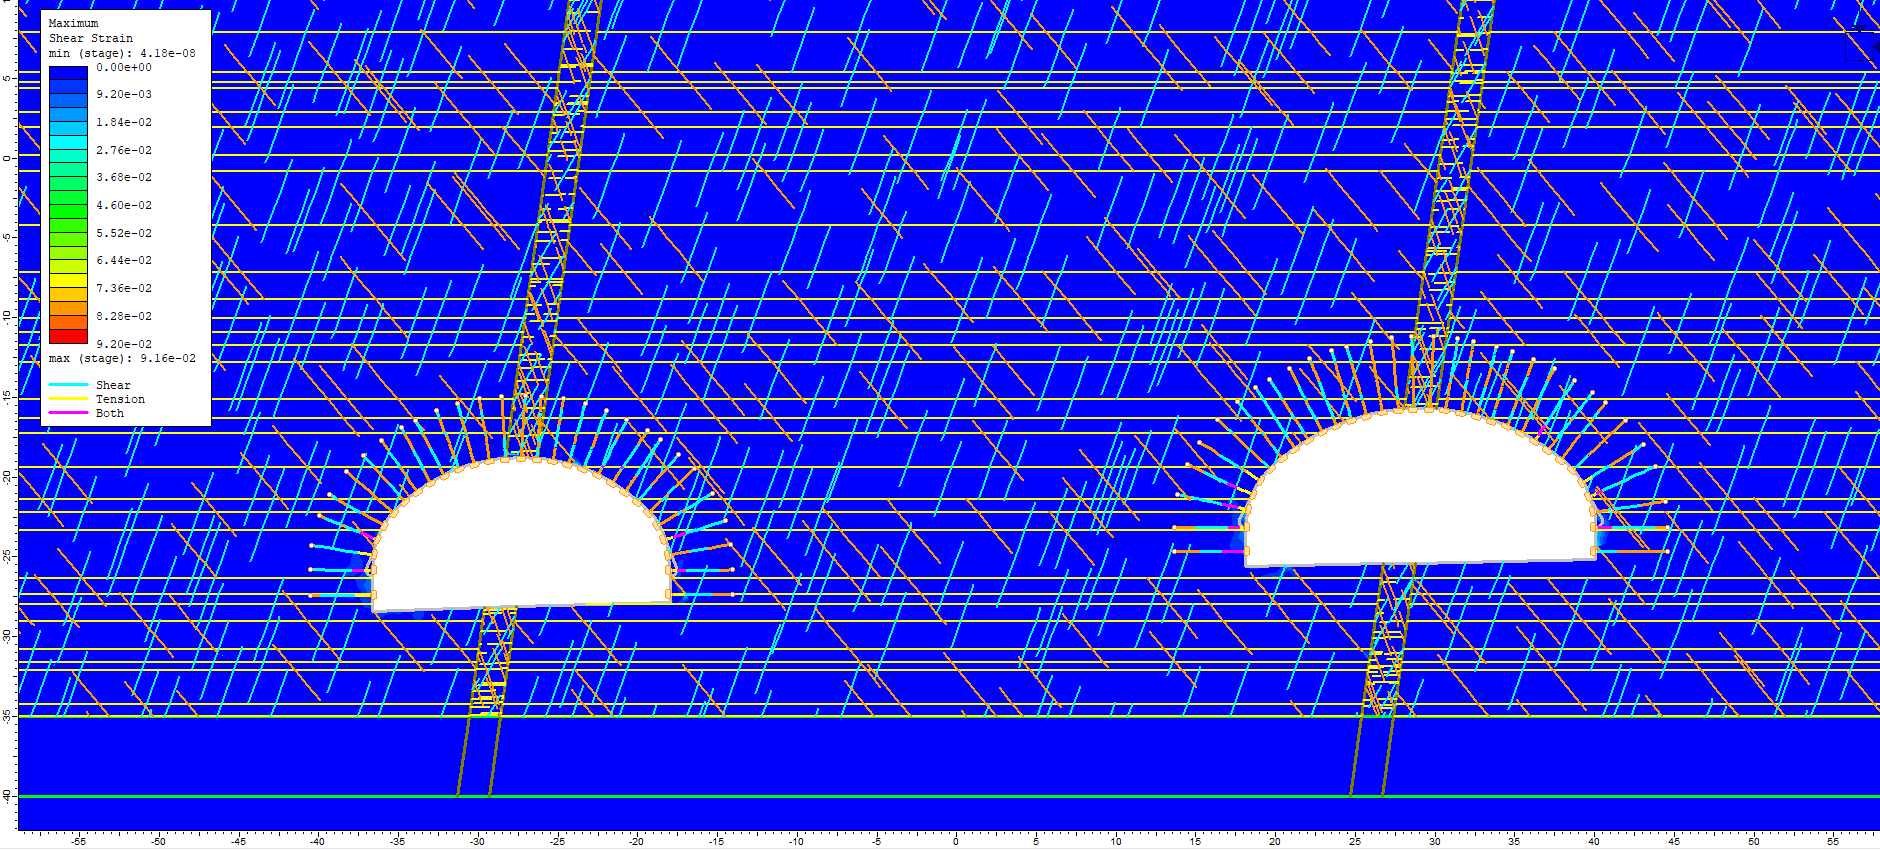crown: (1369, 360, 1471, 400), (458, 420, 592, 450)
label: (44, 11, 206, 426)
tunnel-opening: (1246, 406, 1601, 566), (370, 456, 673, 609)
